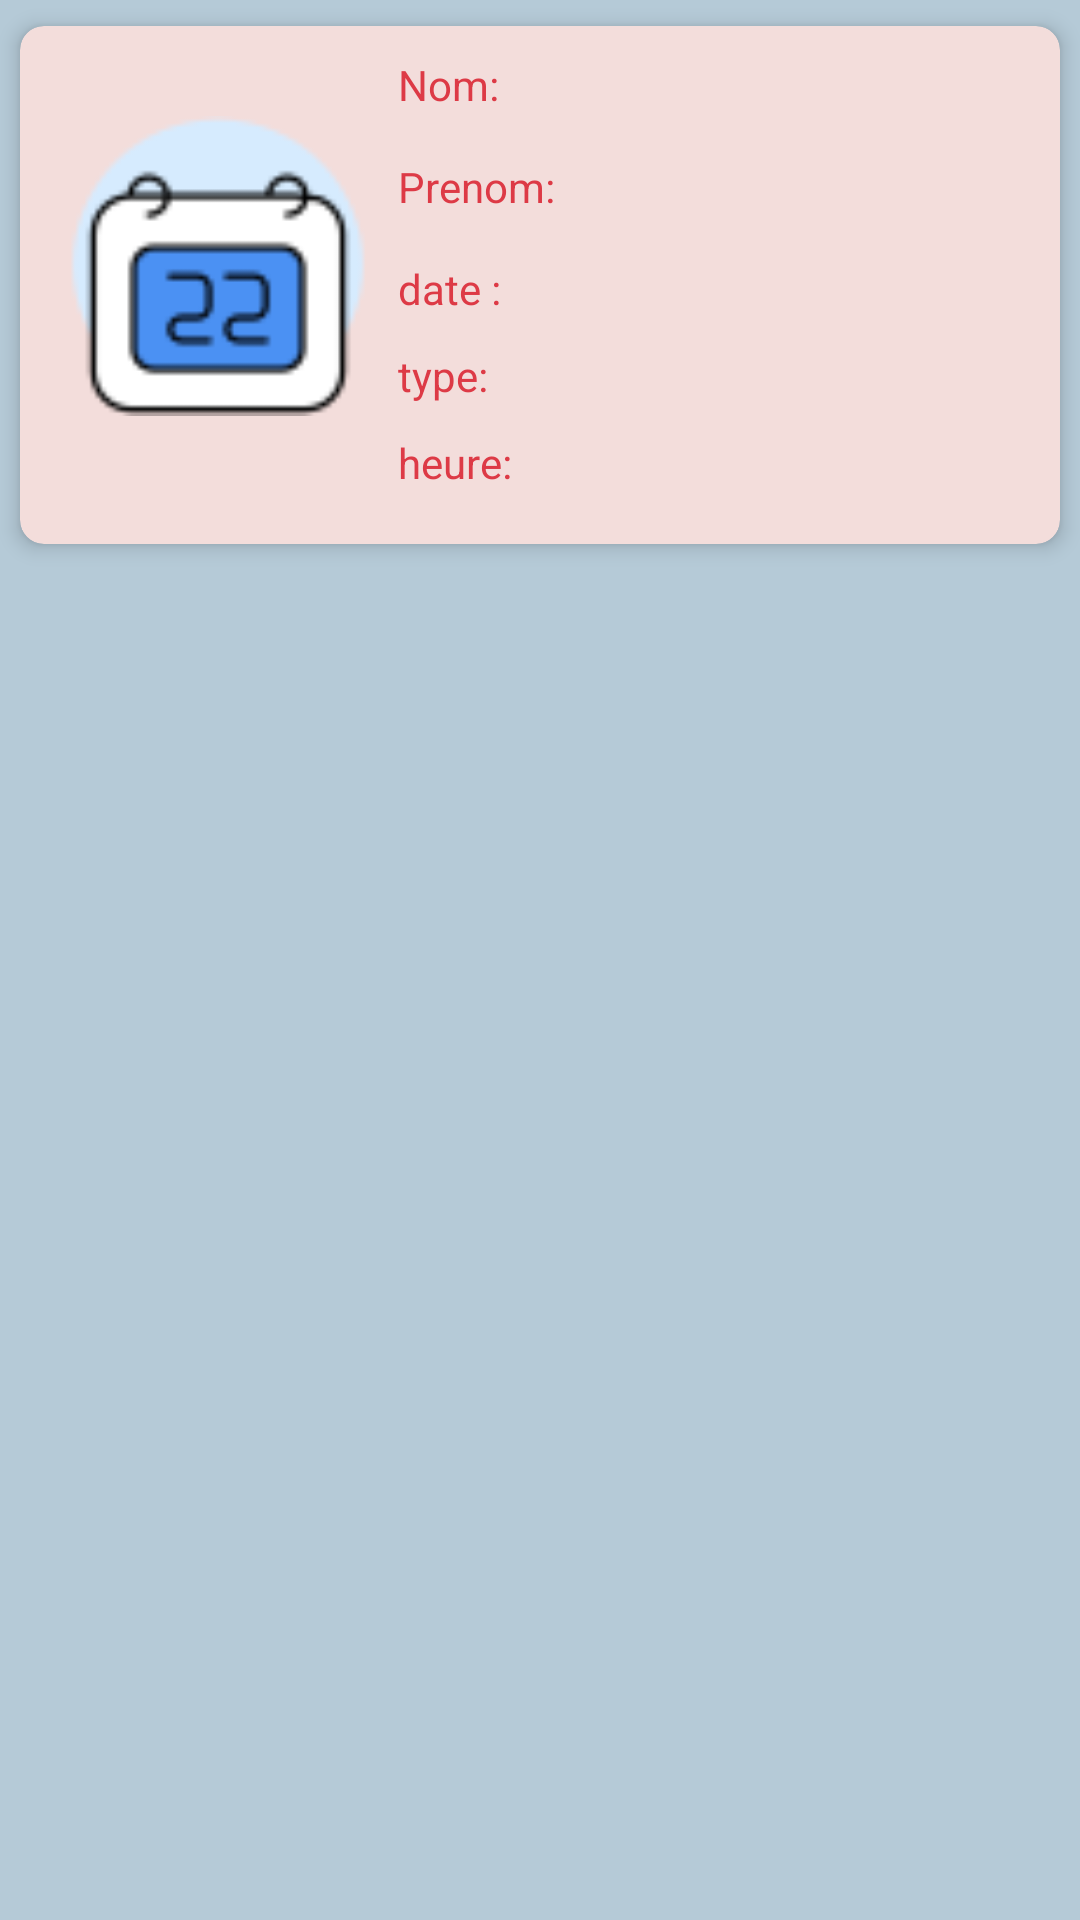

Named icons in this screenshot (1080px×1920px) and their bounding boxes, (x1, y1, x2, y2):
calendarexm: (74, 121, 362, 416)
